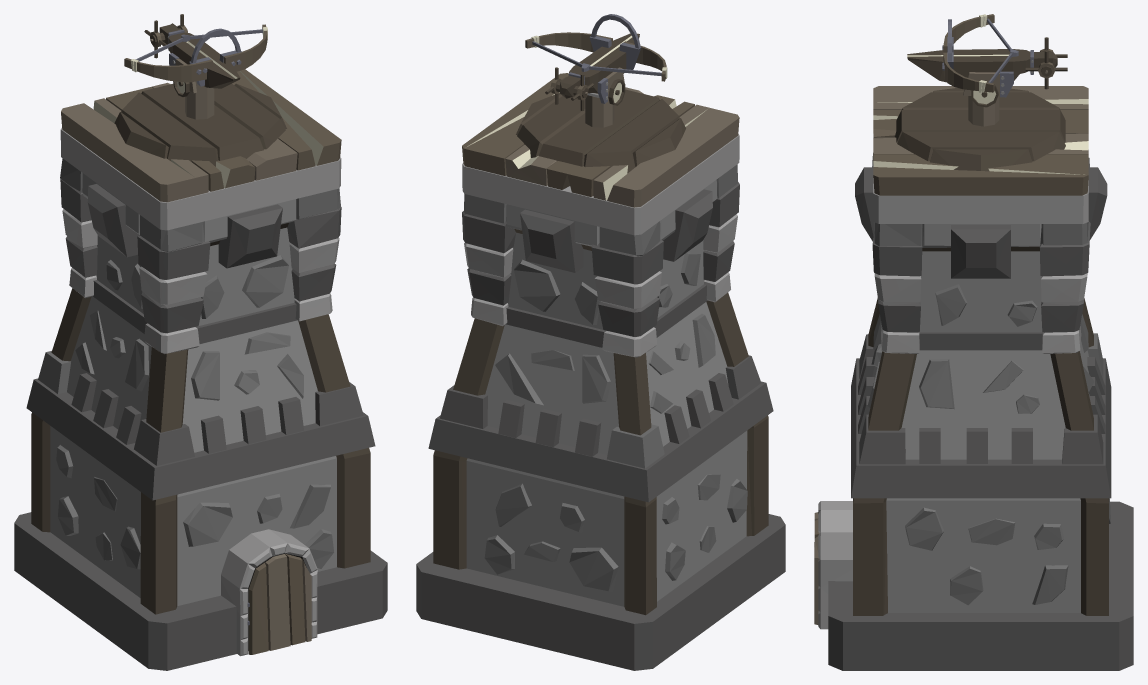
Rendered from _Ballista_tower_LVL_2.fbx.
3 views of the same model, side by side, from view 1: azimuth 30°, elevation 25°; view 2: azimuth 150°, elevation 25°; view 3: azimuth 270°, elevation 25° (orthographic). The views are drawn at different scales.
Parts seen in each view (by area): view 1: Ballista_tower_LVL_2; view 2: Ballista_tower_LVL_2; view 3: Ballista_tower_LVL_2.
Part boxes in pixels (x1=…): Ballista_tower_LVL_2: x1=14, y1=14, x2=387, y2=670; Ballista_tower_LVL_2: x1=416, y1=14, x2=785, y2=670; Ballista_tower_LVL_2: x1=814, y1=14, x2=1133, y2=670.
Size of the model in its own units: 566 by 1291 by 634.
